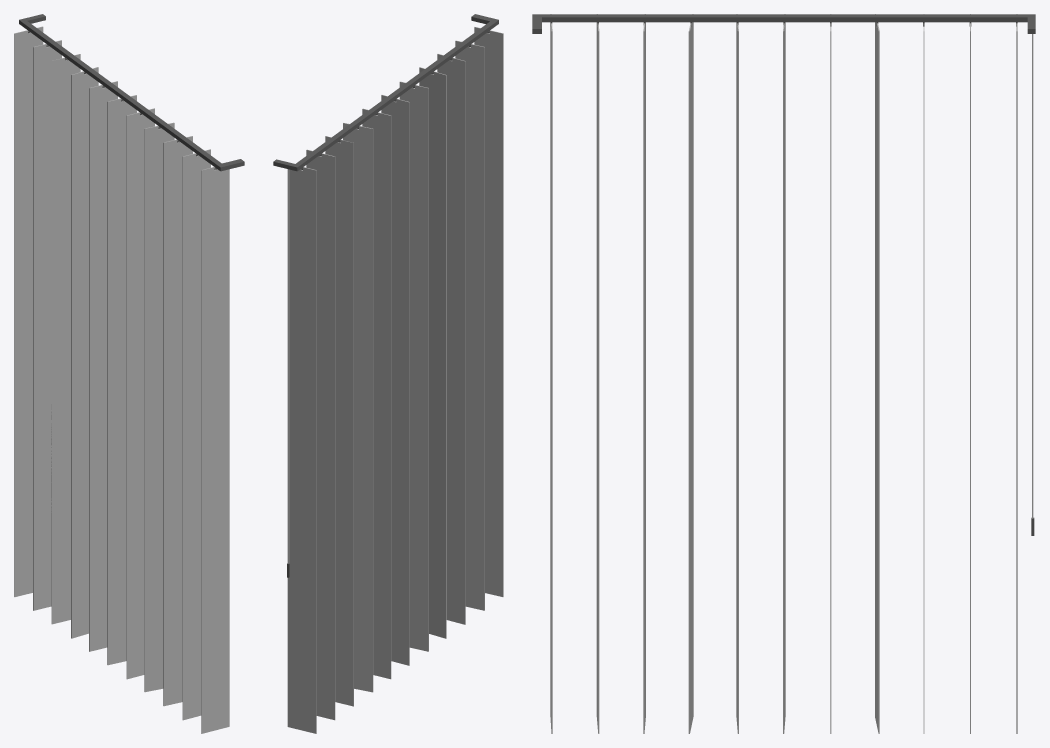
Rendered from Curtain06.fbx.
3 renders of one model, left to right at view 1: azimuth 30°, elevation 25°; view 2: azimuth 150°, elevation 25°; view 3: azimuth 270°, elevation 25°, orthographic. The views are drawn at different scales.
Parts seen in each view (by area): view 1: Curtain06; view 2: Curtain06; view 3: Curtain06.
Boxes of the visible parts, x1,y1,x2,y2 form: Curtain06: (14, 14, 244, 733); Curtain06: (273, 14, 503, 733); Curtain06: (532, 14, 1035, 733).
Bounding box in the file's own units: 0.1696 × 1.66 × 2.58.
